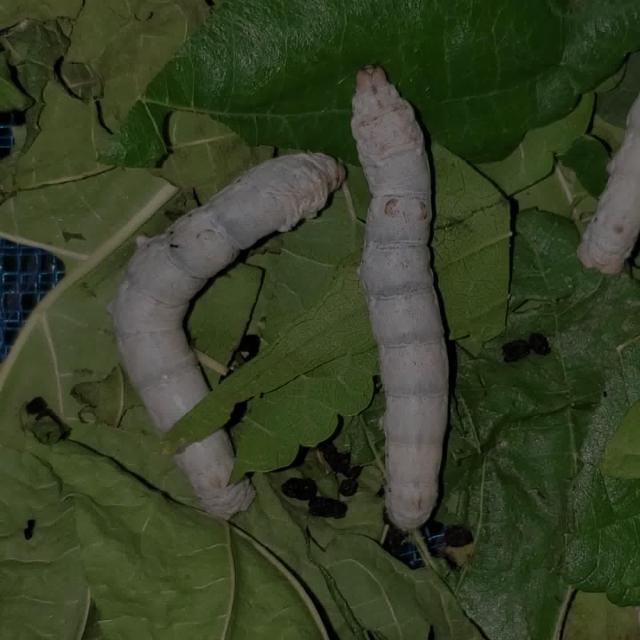Healthy: (92, 120, 354, 538), (342, 54, 552, 547)
